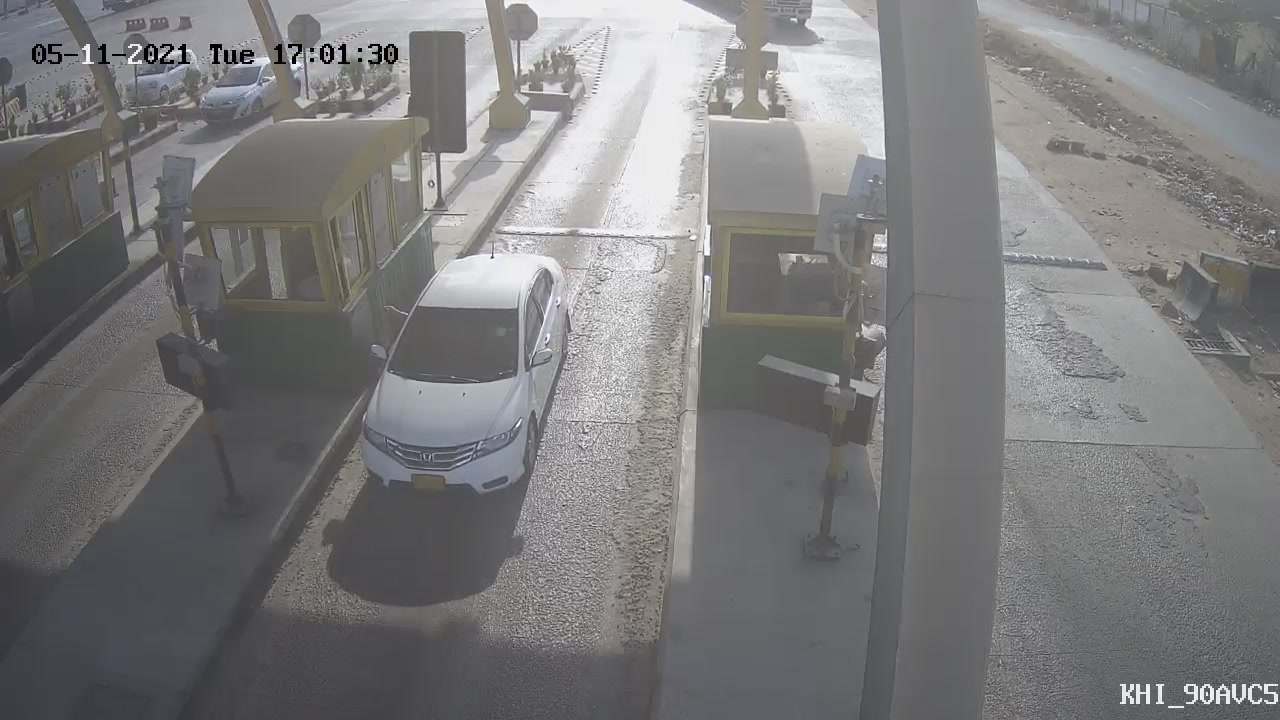F1: (320, 227, 594, 518)
